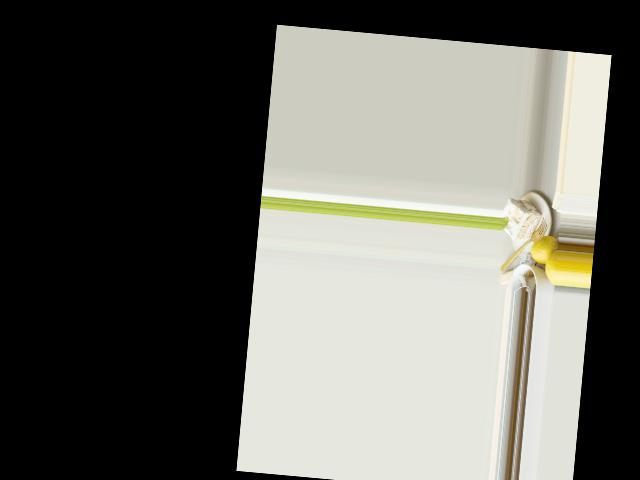lemon: (542, 248, 558, 286)
